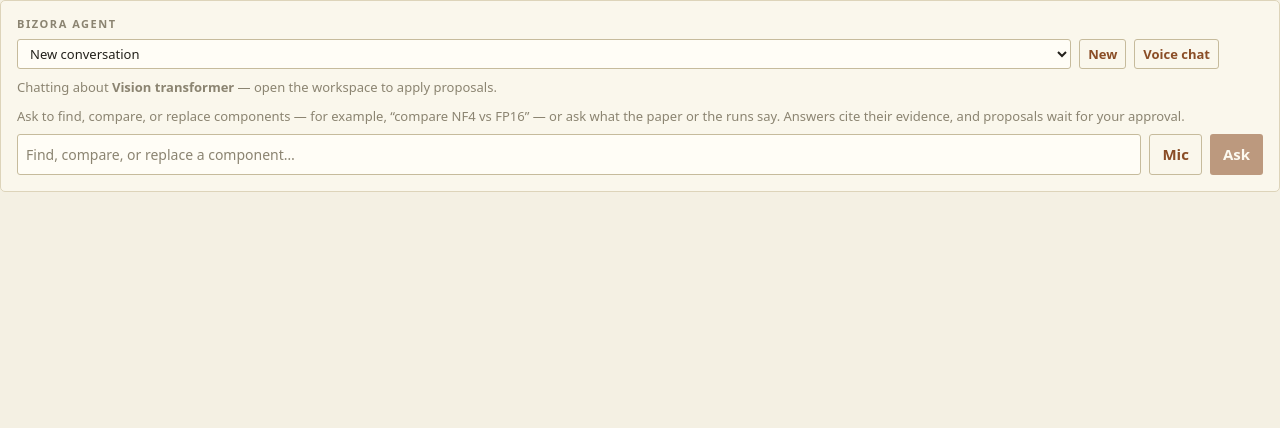
Test: CopilotPanel › keeps detached proposals apply-gated behind the workspace
Expected: the text "Chatting about" shows "Vision transformer", [112, 78, 234, 96]
Type "replace encoder with 2N3904" into the field named "Agent message" at coordinates (579, 154), box [17, 134, 1142, 175]
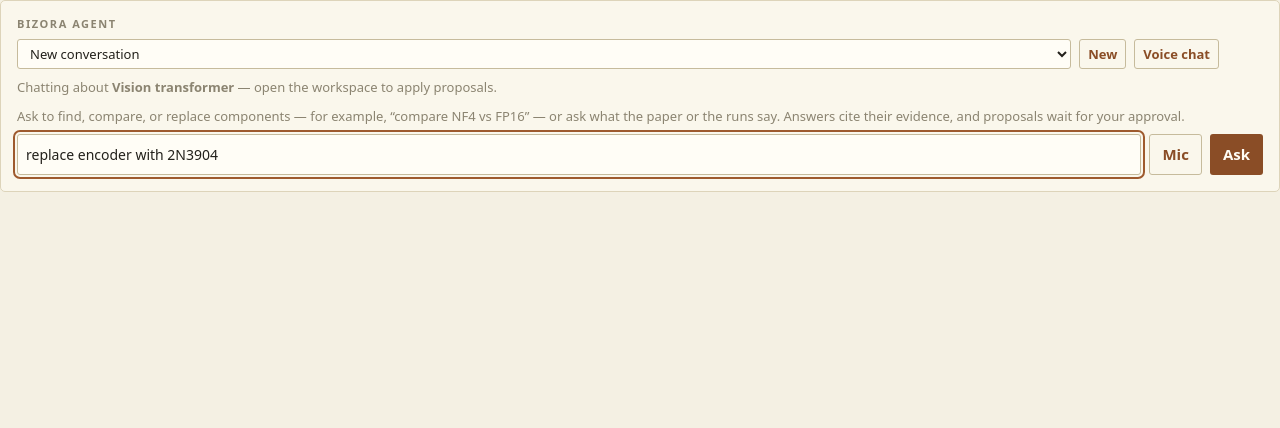
Click the button "Ask" at coordinates (1236, 154), box [1210, 134, 1263, 175]
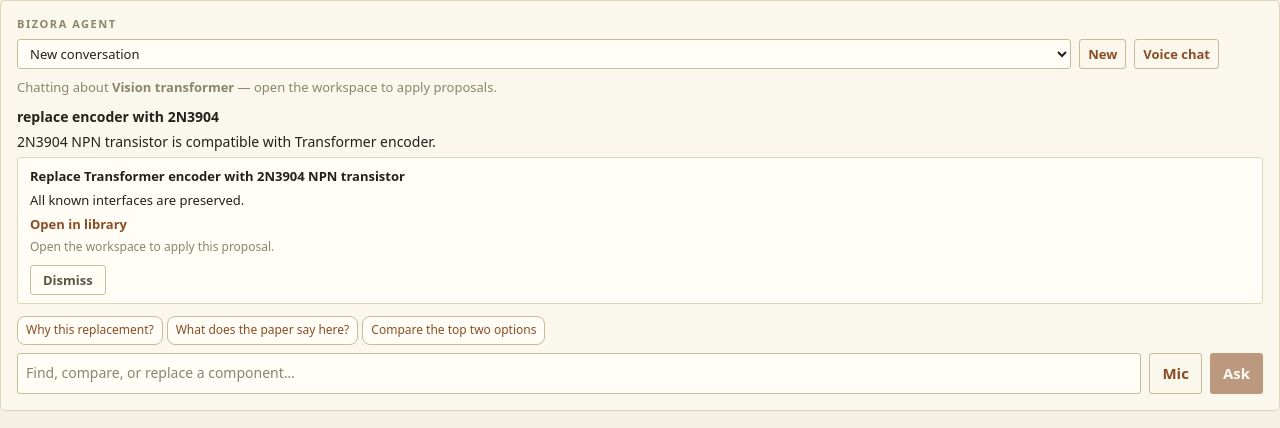
Result: the text "is compatible with" is shown at [17, 132, 436, 151]
Result: the text "Open the workspace to apply this proposal." is shown at [30, 238, 274, 255]
